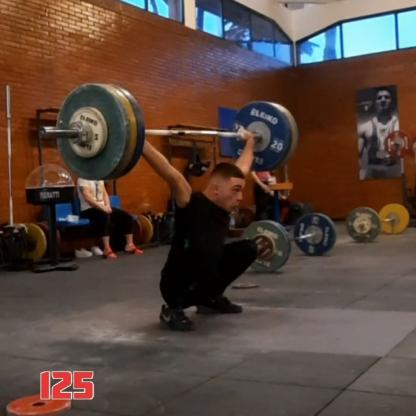barbell: (57, 84, 129, 182), (230, 102, 292, 173)
